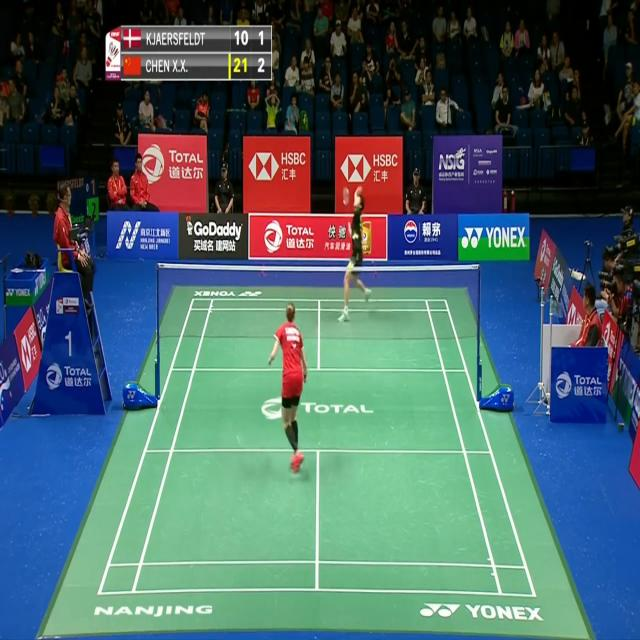Player1: (267, 301, 315, 483)
Player2: (337, 183, 375, 325)
